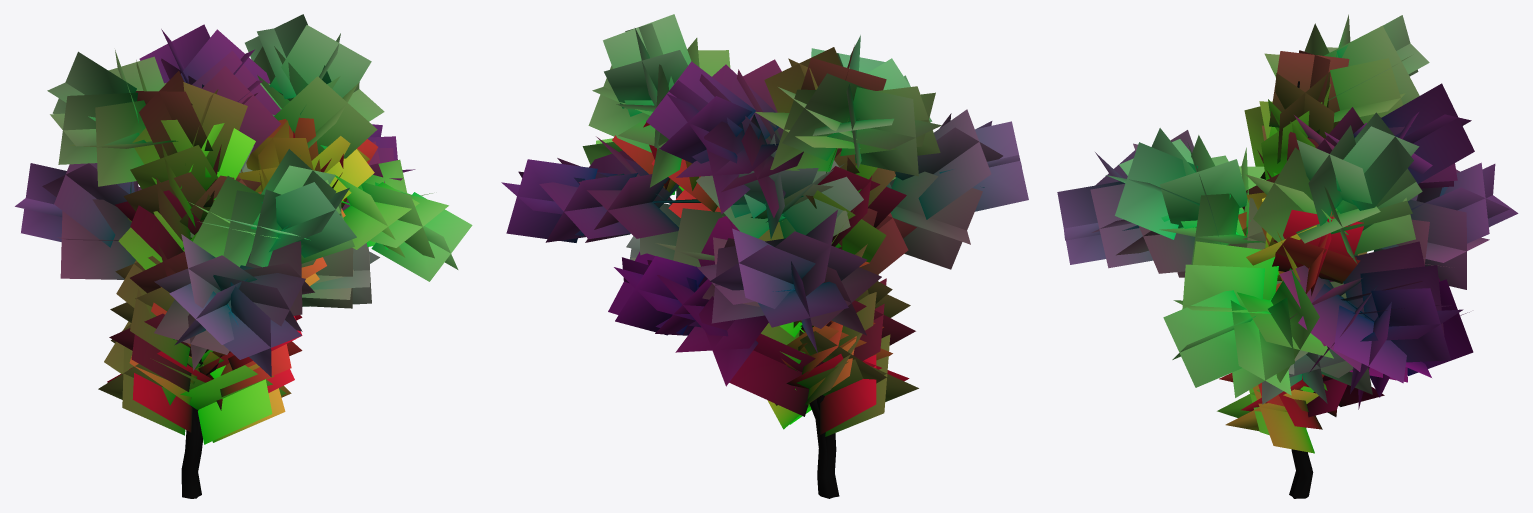
The model's file is M_P3_Tree_12.fbx.
3 renders of one model, left to right at view 1: azimuth 30°, elevation 25°; view 2: azimuth 150°, elevation 25°; view 3: azimuth 270°, elevation 25°, orthographic. The views are drawn at different scales.
Visible parts, largest first — view 1: Tree_12; view 2: Tree_12; view 3: Tree_12.
Boxes of the visible parts, <box> form: Tree_12: <box>15,14,472,498</box>; Tree_12: <box>501,14,1028,498</box>; Tree_12: <box>1057,14,1518,498</box>.
Bounding box in the file's own units: 457 × 522 × 485.
